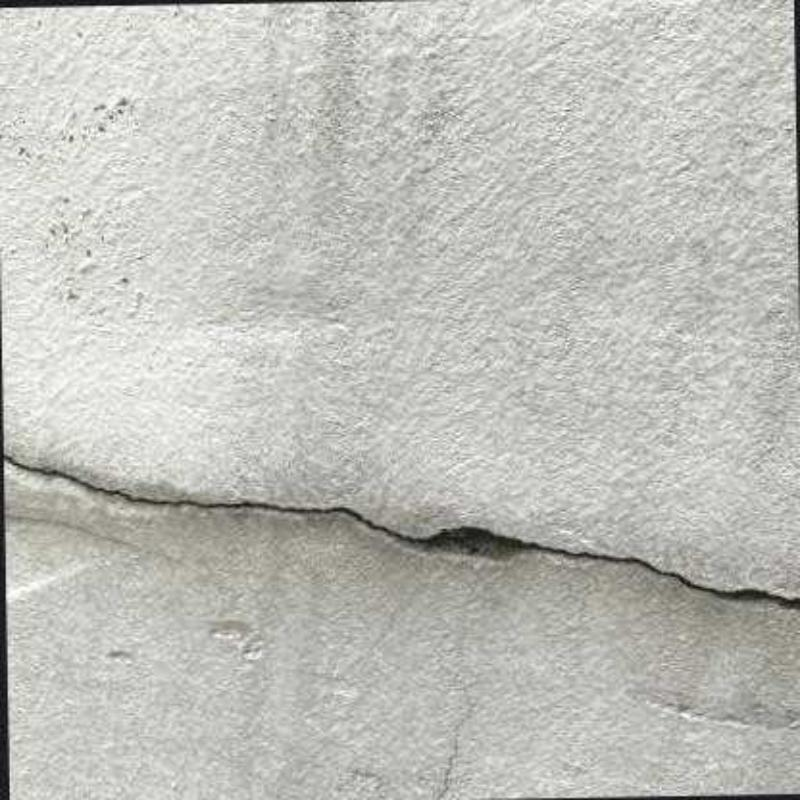pothole: (1, 452, 800, 615)
